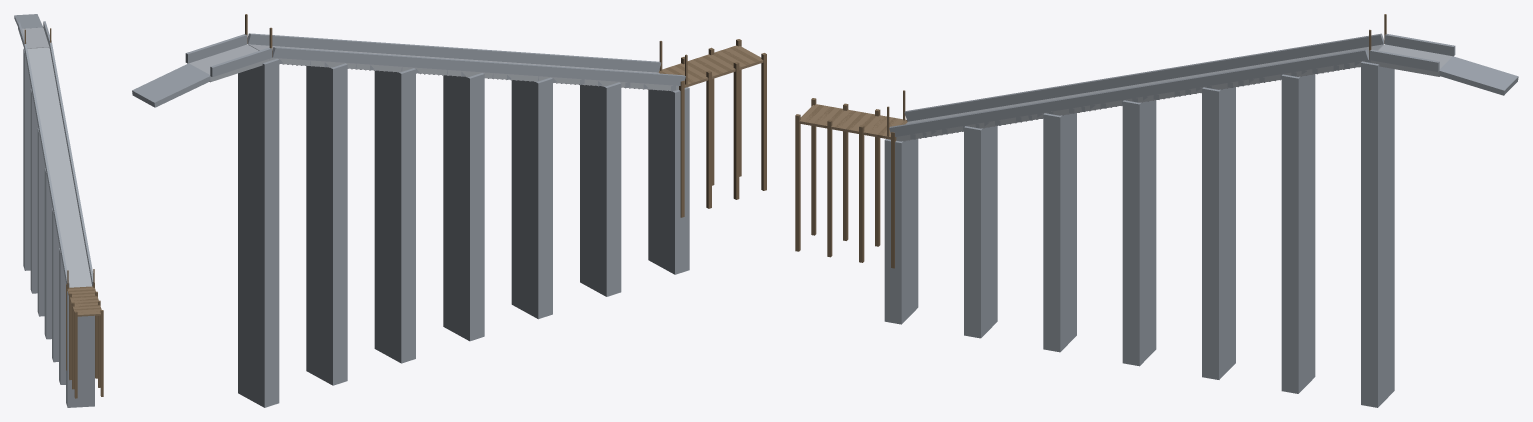
Rendered from frost_landing_aurora_arch_lod1.glb.
The picture shows the model from 3 angles, left to right: view 1: azimuth 30°, elevation 25°; view 2: azimuth 150°, elevation 25°; view 3: azimuth 270°, elevation 25°; orthographic projection. The views are drawn at different scales.
Parts seen in each view (by area): view 1: geometry_0; view 2: geometry_0; view 3: geometry_0.
Part boxes in pixels (x1,y1,x2,y2): geometry_0: (14,14,103,407); geometry_0: (132,14,766,407); geometry_0: (795,14,1518,407).
Bounding box in the file's own units: 28.78 × 36.03 × 62.89.
